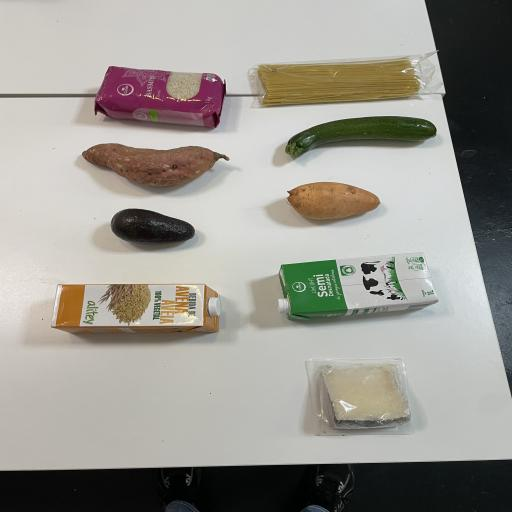avocado: (108, 203, 198, 254)
courgette: (281, 112, 442, 158)
cured_goat_cheese: (306, 352, 416, 432)
milk: (271, 254, 448, 323)
oat_milk: (48, 277, 226, 342)
rice: (85, 60, 228, 131)
spaghetti: (244, 52, 431, 110)
sweet_potato: (75, 138, 233, 195), (281, 179, 394, 228)
